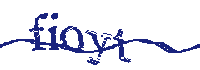f: (29, 12, 47, 51)
i: (48, 11, 60, 51)
o: (60, 25, 84, 53)
t: (113, 28, 132, 63)
y: (86, 29, 111, 66)
